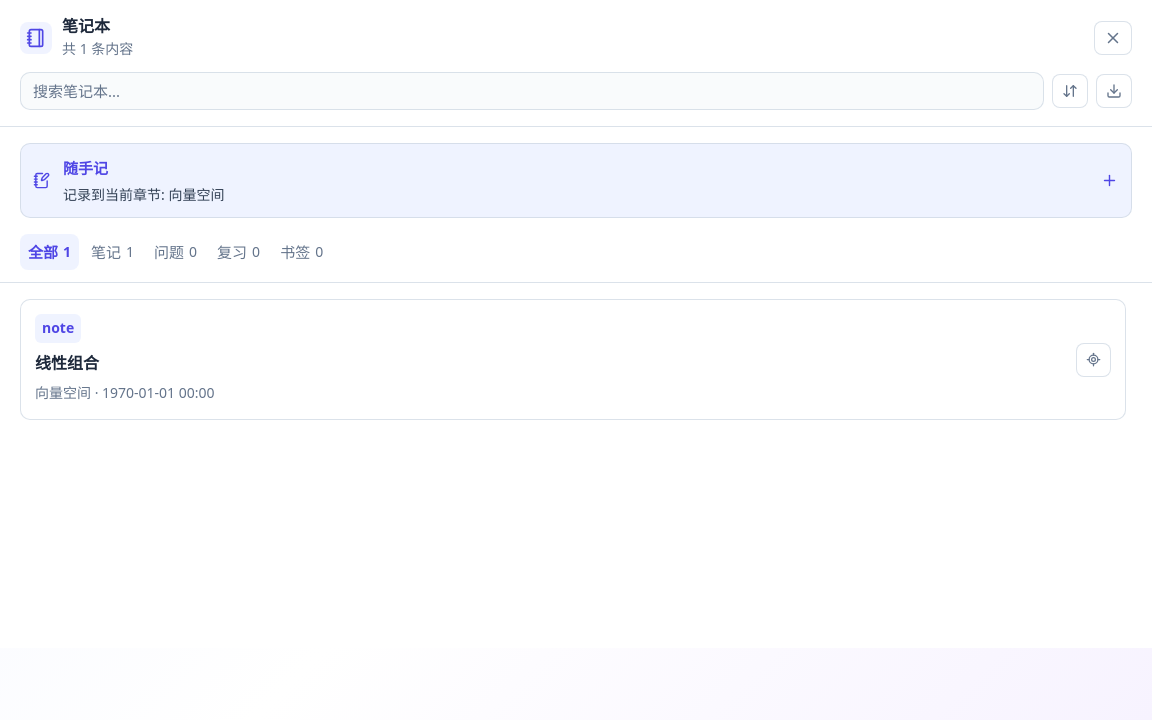
Scenario: NotesPanel quick note › distinguishes a search miss from an empty notebook and clears the query
The width and height of the screenshot is (1152, 720).
In the search field with placeholder "搜索笔记本...": (532,91) [20,72,1044,110], type "不存在的内容"
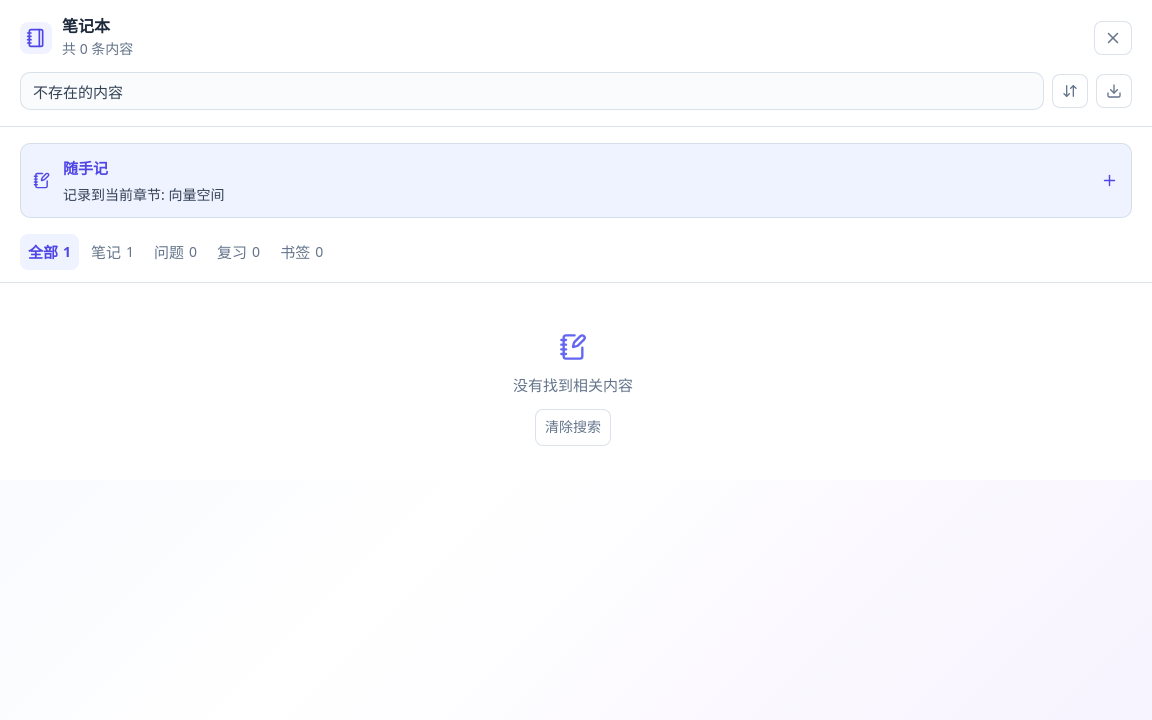
Result: the text "没有找到相关内容" is shown at [513,373,633,397]
Click the button "清除搜索": (573,427) [535,409,611,446]
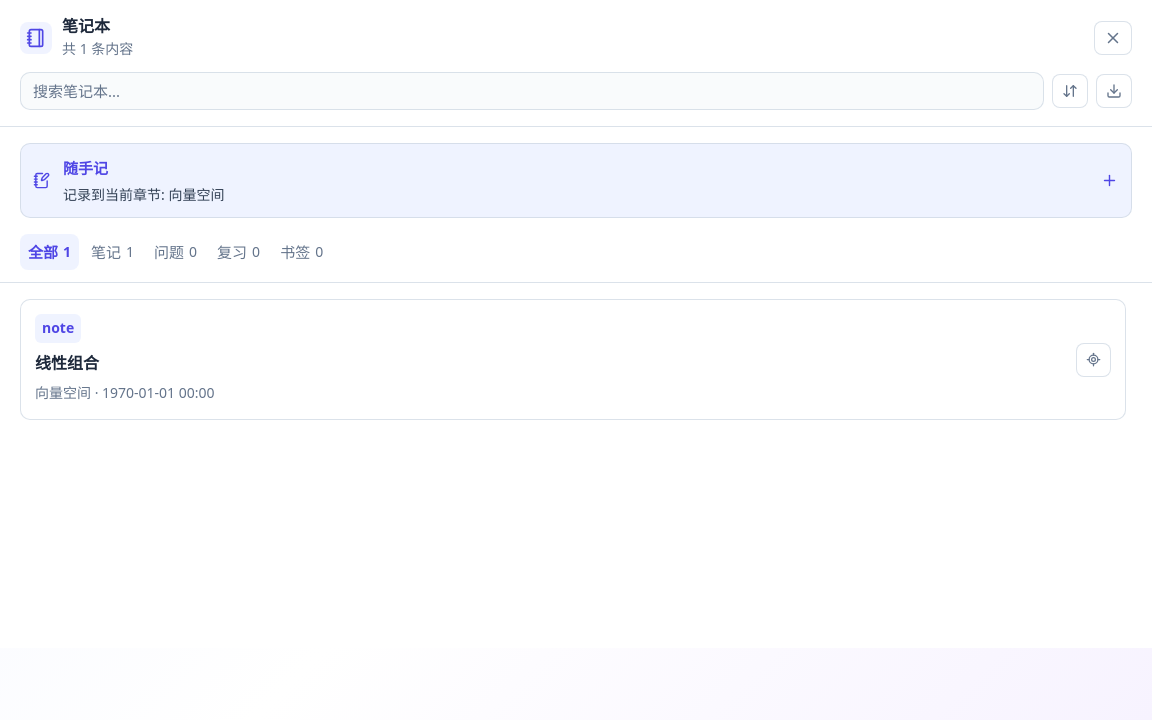
Result: the text "线性组合" is shown at [35,352,99,374]
